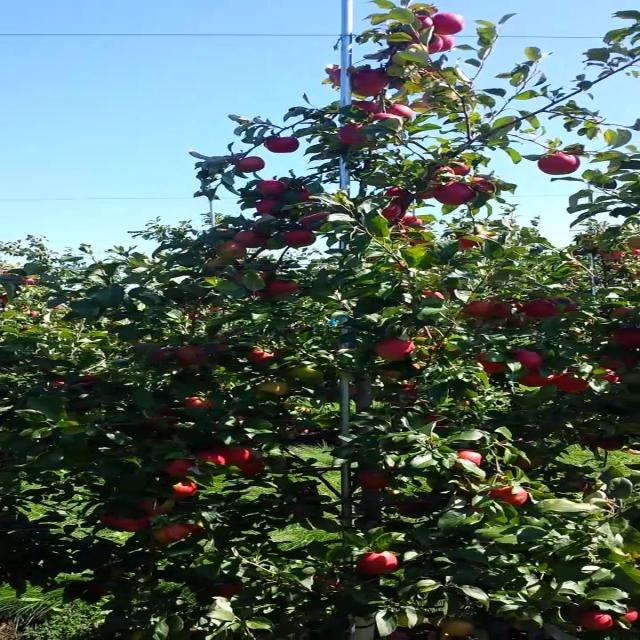apple: (355, 552, 402, 576), (540, 152, 583, 176), (376, 340, 418, 363), (440, 184, 476, 208), (99, 512, 142, 532), (433, 12, 468, 36), (554, 372, 590, 395), (490, 488, 532, 507), (582, 612, 619, 632), (476, 352, 508, 375), (164, 480, 199, 501), (406, 16, 434, 41), (355, 472, 391, 491), (134, 500, 174, 517), (113, 516, 153, 533), (511, 352, 546, 371), (525, 300, 558, 320), (156, 524, 188, 544), (298, 212, 331, 231), (163, 460, 197, 478), (440, 620, 476, 637), (177, 348, 212, 365), (518, 372, 555, 388), (461, 300, 492, 319), (340, 124, 368, 145), (234, 156, 268, 173), (234, 460, 268, 477), (284, 232, 320, 248), (234, 232, 270, 248), (269, 136, 299, 155), (518, 352, 548, 371), (611, 328, 638, 349), (248, 348, 281, 365), (404, 40, 439, 55), (454, 452, 484, 469), (604, 356, 638, 371), (412, 16, 434, 39), (355, 72, 391, 86), (269, 280, 300, 296), (333, 68, 359, 87), (255, 200, 284, 217), (255, 384, 292, 397), (596, 436, 626, 452), (220, 244, 249, 260), (383, 188, 412, 204), (468, 180, 498, 195), (198, 452, 228, 467), (148, 412, 178, 427), (262, 180, 290, 196), (184, 396, 213, 411), (227, 448, 254, 464), (419, 344, 446, 360), (518, 456, 548, 470), (596, 368, 622, 384), (291, 368, 325, 380), (355, 100, 384, 114), (312, 576, 341, 590), (383, 204, 405, 222), (497, 304, 524, 318), (355, 84, 384, 97), (426, 288, 455, 301), (220, 584, 245, 599), (554, 300, 578, 315), (461, 236, 485, 251), (433, 36, 455, 52), (99, 516, 124, 530), (582, 432, 603, 448), (397, 504, 425, 516), (412, 96, 434, 111), (419, 184, 439, 200), (568, 480, 592, 493), (412, 100, 436, 113), (390, 104, 412, 118), (156, 348, 178, 362), (426, 416, 450, 428), (461, 236, 480, 250), (333, 68, 347, 87), (184, 524, 206, 536), (390, 52, 407, 67), (433, 168, 455, 179), (611, 308, 633, 319), (404, 216, 425, 227), (454, 164, 473, 176), (511, 316, 530, 328), (298, 192, 316, 204), (625, 608, 639, 623), (212, 344, 231, 355), (419, 68, 439, 78), (49, 380, 68, 389), (383, 372, 404, 380), (390, 80, 405, 91), (113, 568, 126, 580), (326, 392, 340, 403), (84, 376, 101, 385), (390, 632, 409, 640), (92, 588, 108, 597), (468, 508, 489, 513), (227, 276, 242, 283), (376, 116, 393, 121)
